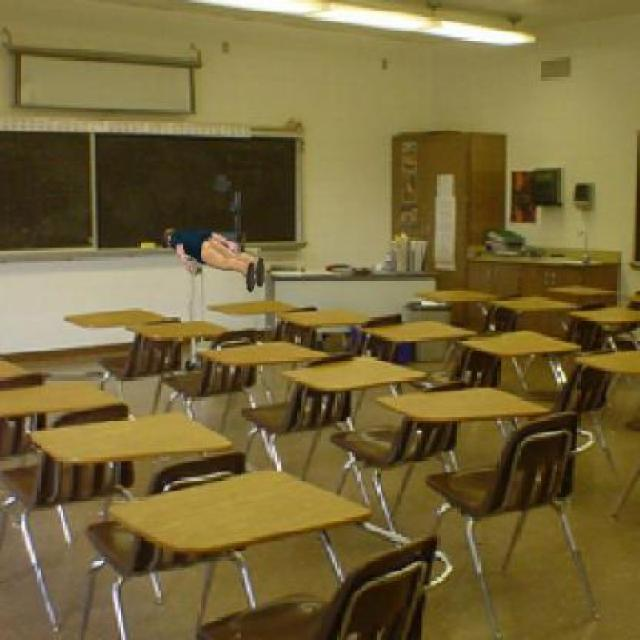Person: (162, 221, 269, 296)
